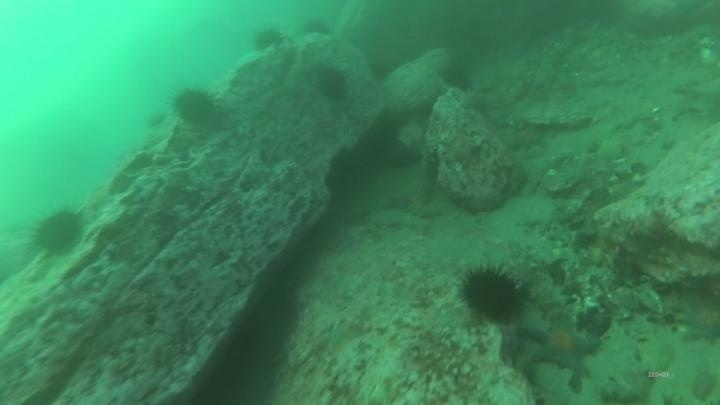echinus: (456, 261, 529, 326), (29, 204, 87, 259), (170, 85, 220, 126), (314, 65, 350, 102), (438, 62, 476, 94), (250, 25, 286, 54)
holothurian: (516, 261, 575, 321)
starfish: (523, 314, 603, 374), (677, 294, 720, 345)
